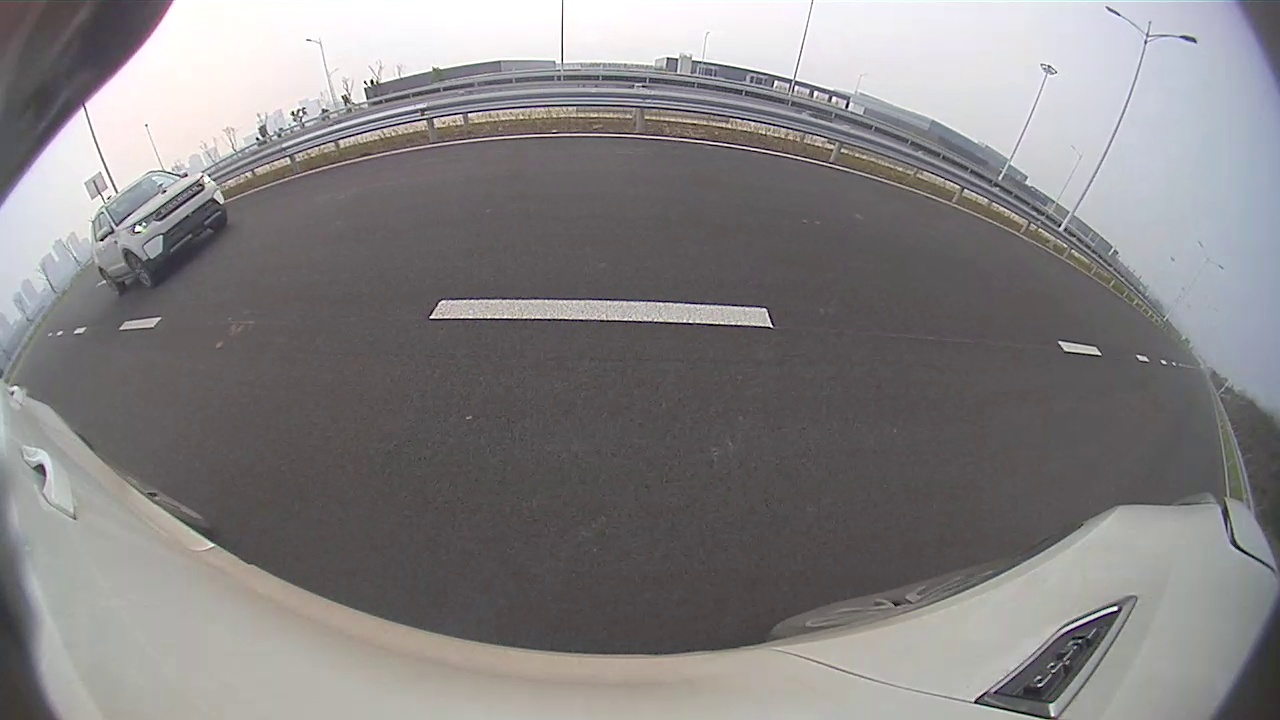car: (266, 143, 487, 278)
front: (466, 188, 486, 224)
rear: (371, 208, 413, 265)
